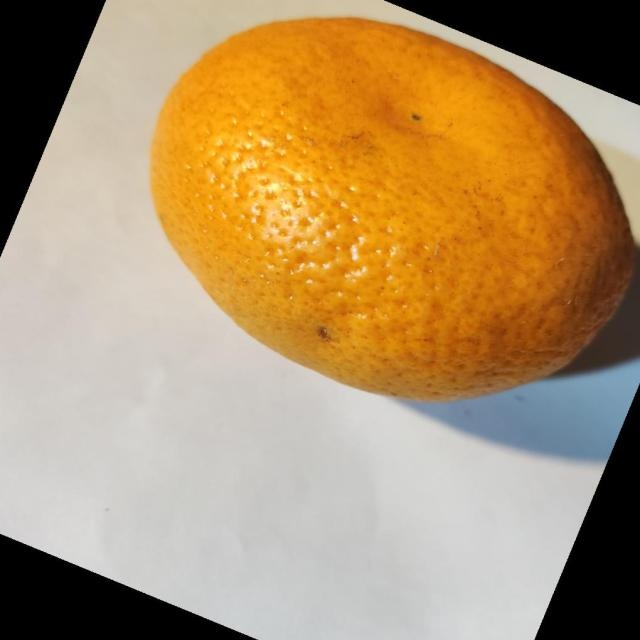agrume: (148, 15, 636, 404)
